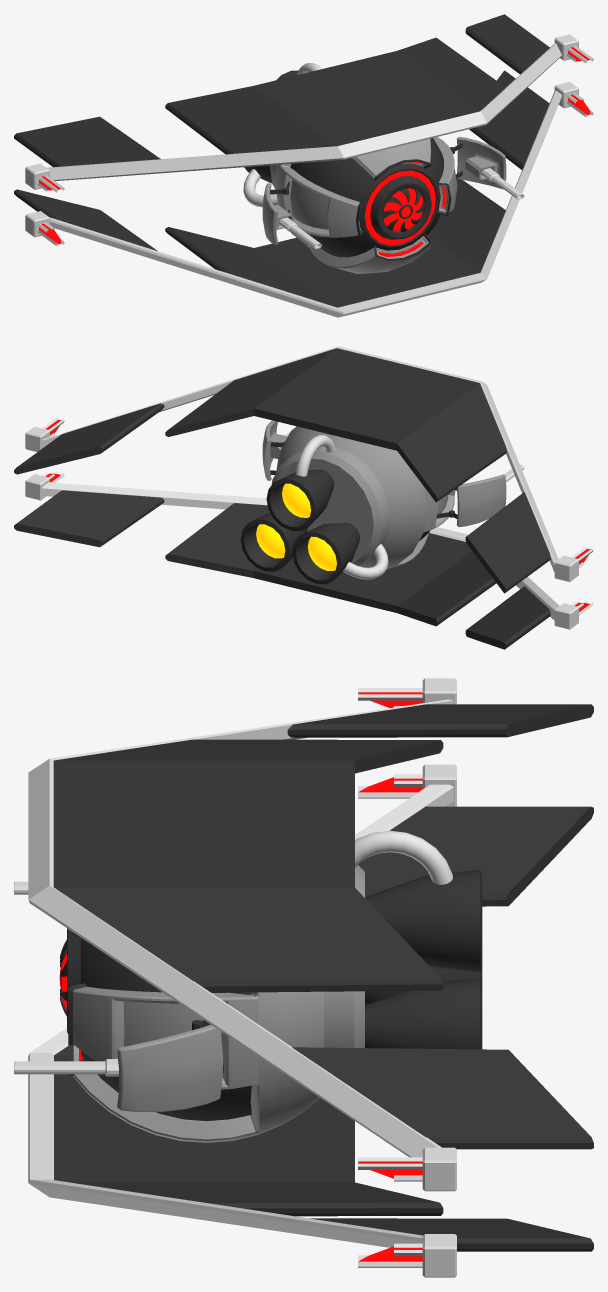
Rendered from SM_EyeFighter.fbx.
The picture shows the model from 3 angles, top to bottom: view 1: azimuth 30°, elevation 25°; view 2: azimuth 150°, elevation 25°; view 3: azimuth 270°, elevation 25°; orthographic projection. The views are drawn at different scales.
Parts seen in each view (by area): view 1: EyeFighter_Combined_geo; view 2: EyeFighter_Combined_geo; view 3: EyeFighter_Combined_geo.
Boxes of the visible parts, x1,y1,x2,y2 form: EyeFighter_Combined_geo: [14, 14, 593, 317]; EyeFighter_Combined_geo: [14, 346, 593, 649]; EyeFighter_Combined_geo: [14, 678, 593, 1277].
Size of the model in its own units: 21.06 by 6.33 by 10.67.
